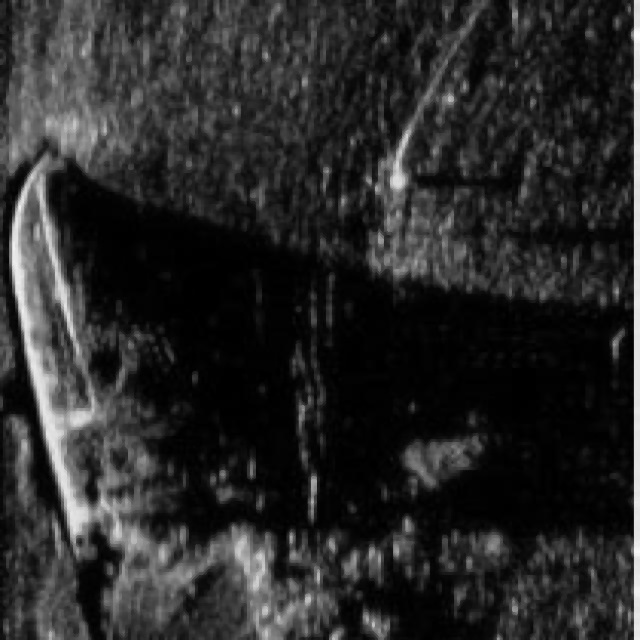Ship: (6, 136, 224, 592)
